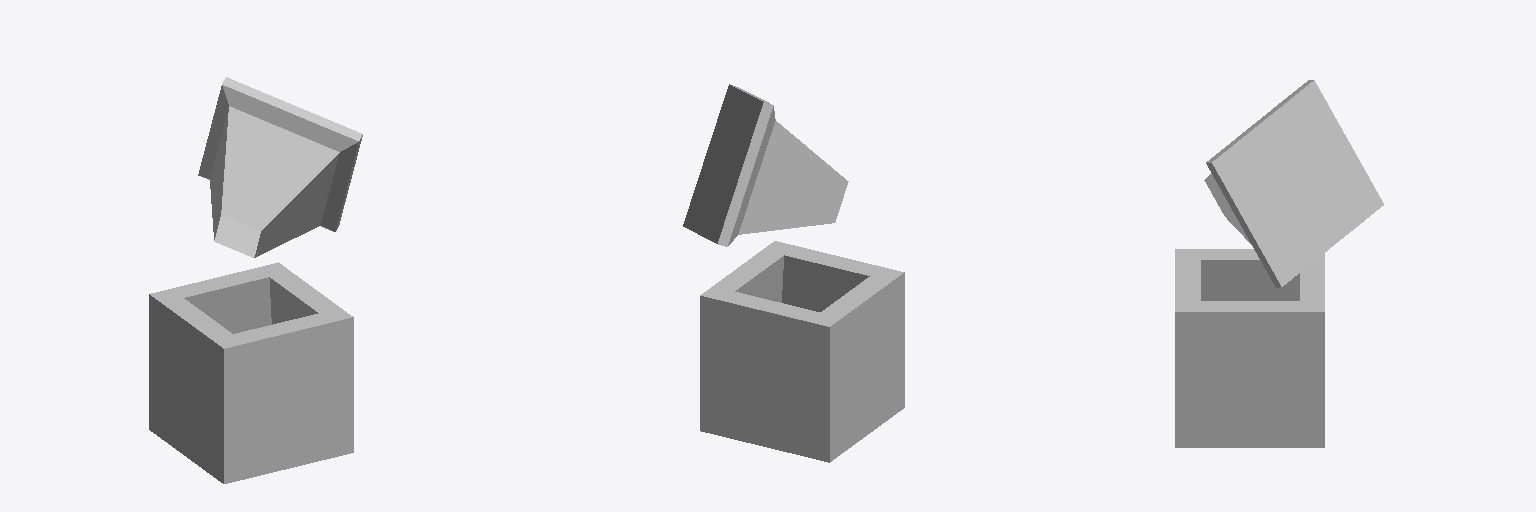
The model's file is AnimatedBox_000057.obj.
The picture shows the model from 3 angles: view 1: azimuth 30°, elevation 25°; view 2: azimuth 150°, elevation 25°; view 3: azimuth 270°, elevation 25°; orthographic projection.
Visible parts, largest first — view 1: Cube, Cube.001; view 2: Cube, Cube.001; view 3: Cube, Cube.001.
Boxes of the visible parts, <box> form: Cube: <box>149,262,353,483</box>; Cube.001: <box>198,77,362,257</box>; Cube: <box>700,241,904,462</box>; Cube.001: <box>683,84,848,246</box>; Cube: <box>1175,249,1324,447</box>; Cube.001: <box>1204,80,1383,287</box>.
Bounding box in the file's own units: 2.6 × 5 × 2.79.